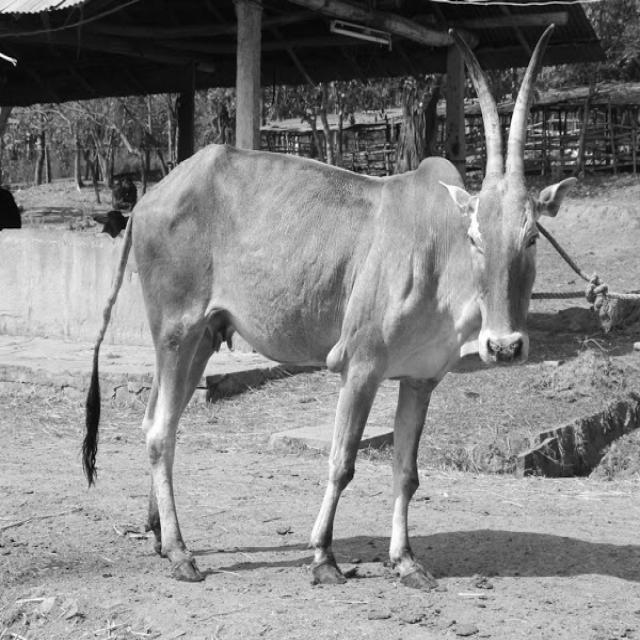Cow: (78, 21, 579, 590)
